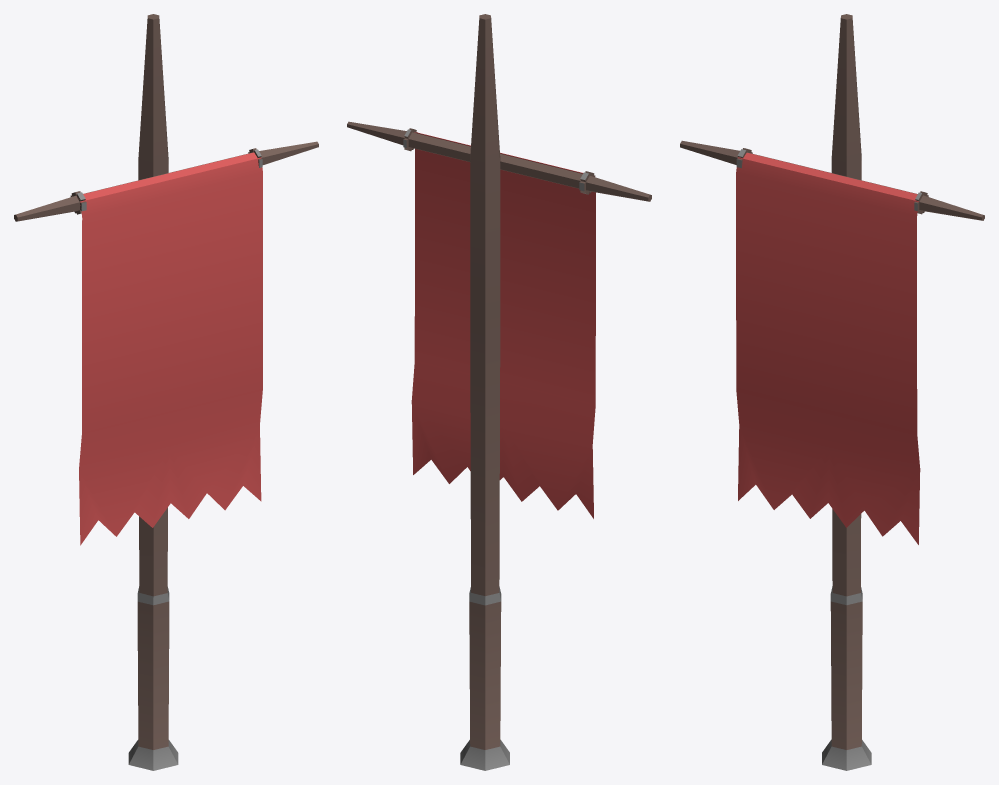
File: Flag.FBX
The picture shows the model from 3 angles, left to right: view 1: azimuth 30°, elevation 25°; view 2: azimuth 150°, elevation 25°; view 3: azimuth 330°, elevation 25°; orthographic projection.
Visible parts, largest first — view 1: Plane001; view 2: Plane001; view 3: Plane001.
Boxes of the visible parts, bbox=[...] form: Plane001: bbox=[14, 14, 318, 770]; Plane001: bbox=[347, 14, 651, 770]; Plane001: bbox=[680, 14, 984, 770].
Size of the model in its own units: 100 by 235 by 18.44.
